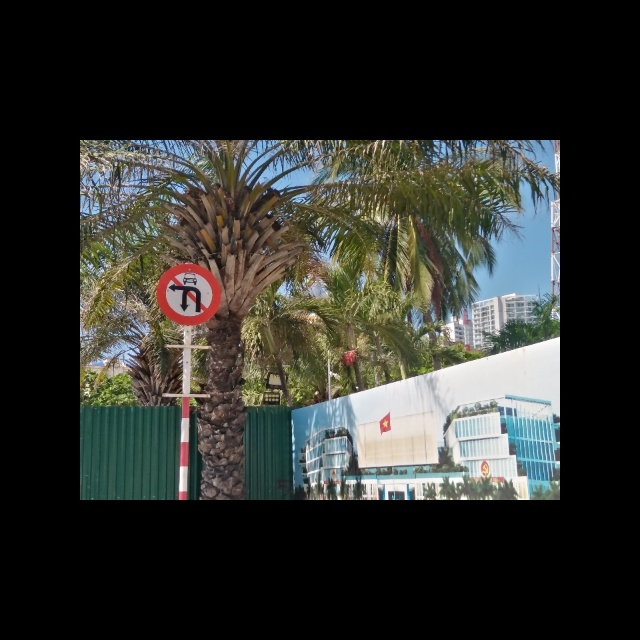Cấm xe ô tô quay đầu và rẽ trái: (153, 263, 223, 325)
